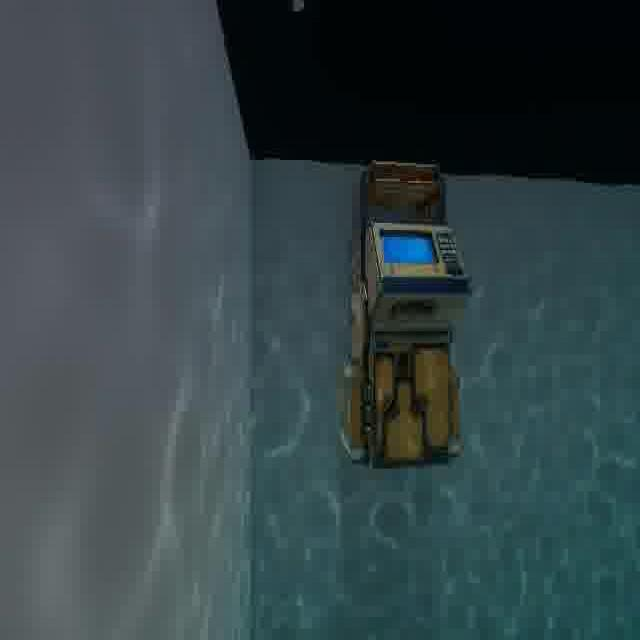Control Panel: (335, 139, 479, 486)
